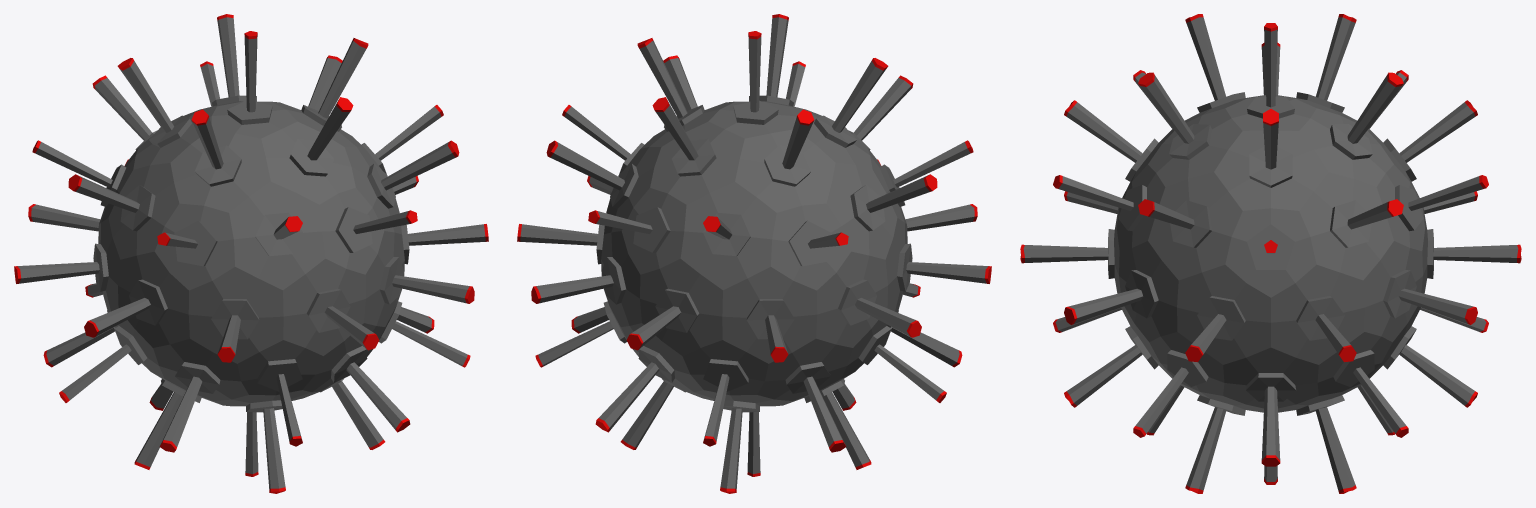
File: mine.fbx
3 views of the same model, side by side, from view 1: azimuth 30°, elevation 25°; view 2: azimuth 150°, elevation 25°; view 3: azimuth 270°, elevation 25° (orthographic). The views are drawn at different scales.
Visible parts, largest first — view 1: Icosphere; view 2: Icosphere; view 3: Icosphere.
Part boxes in pixels (box(x1,y1,x2,y2)): Icosphere: box(14, 14, 488, 493); Icosphere: box(517, 14, 991, 493); Icosphere: box(1020, 14, 1521, 493).
Bounding box in the file's own units: 277 × 291 × 289.
